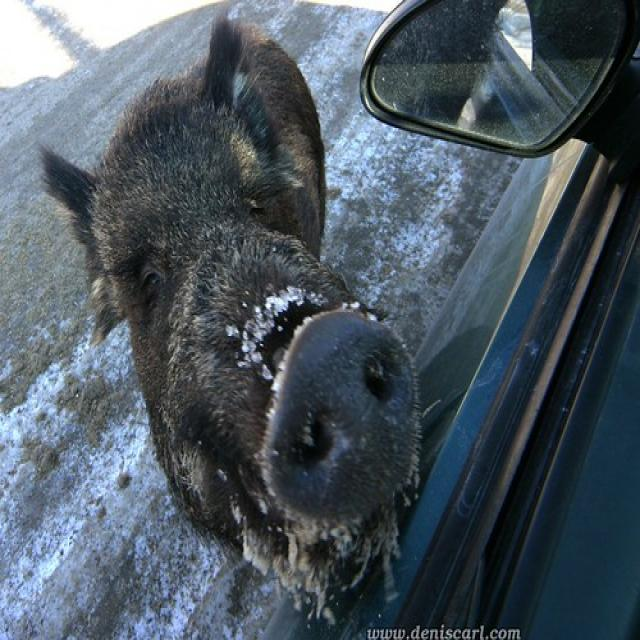boar: (0, 0, 458, 617)
